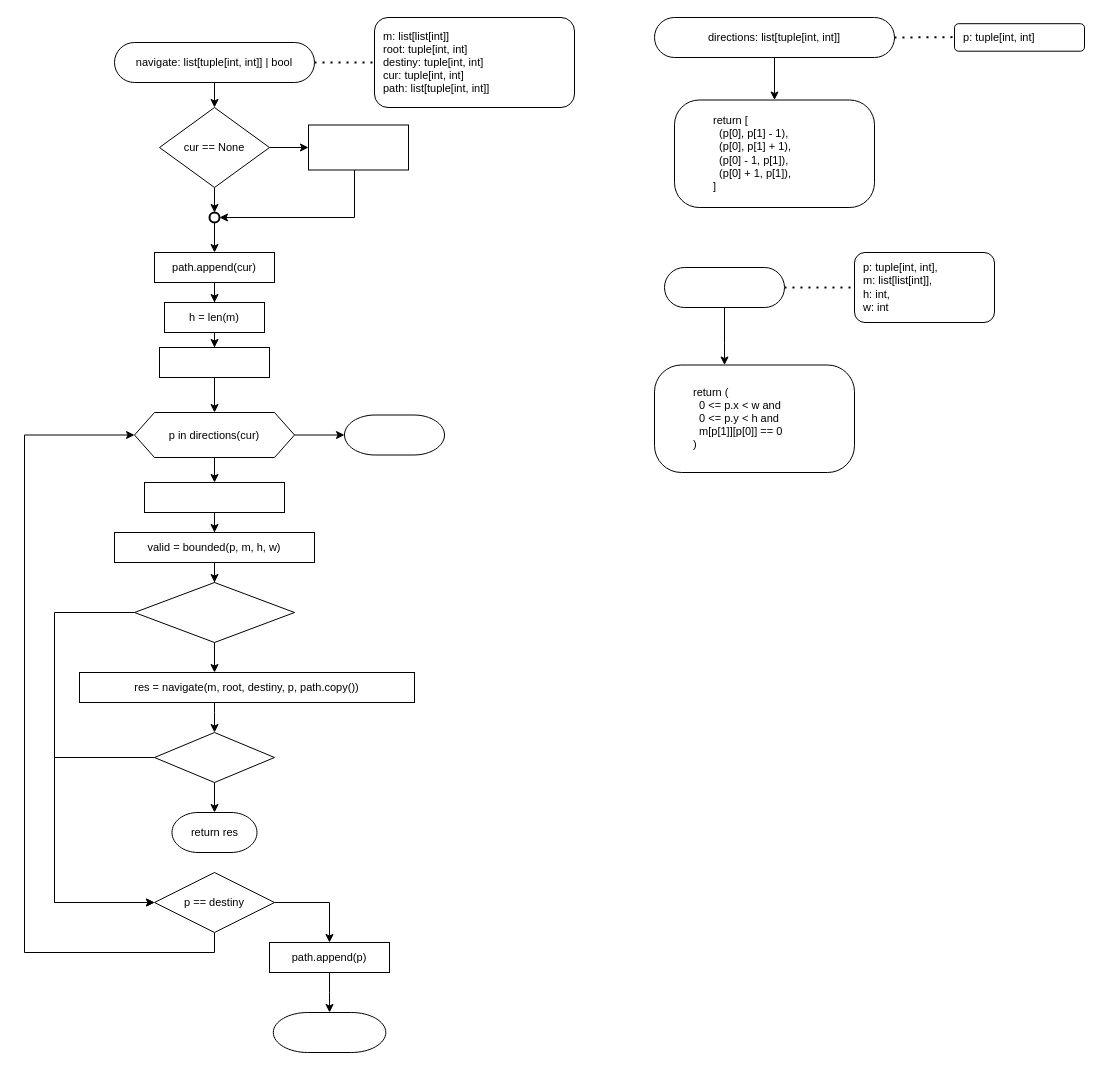
The diagram is 1102 pixels wide and 1070 high, and some of its shapes have lost their labels. The box of each missing label's shape, as (x1, y1, x2, y2) in pixels:
!visited and valid: (134, 582, 294, 642)
bounded: bool: (664, 266, 784, 308)
cur = root: (308, 124, 408, 170)
res: (154, 732, 274, 782)
return False: (344, 414, 444, 455)
return path: (272, 1012, 386, 1052)
visited = p in path: (144, 482, 284, 512)
w = len(m[0]): (158, 346, 270, 378)
